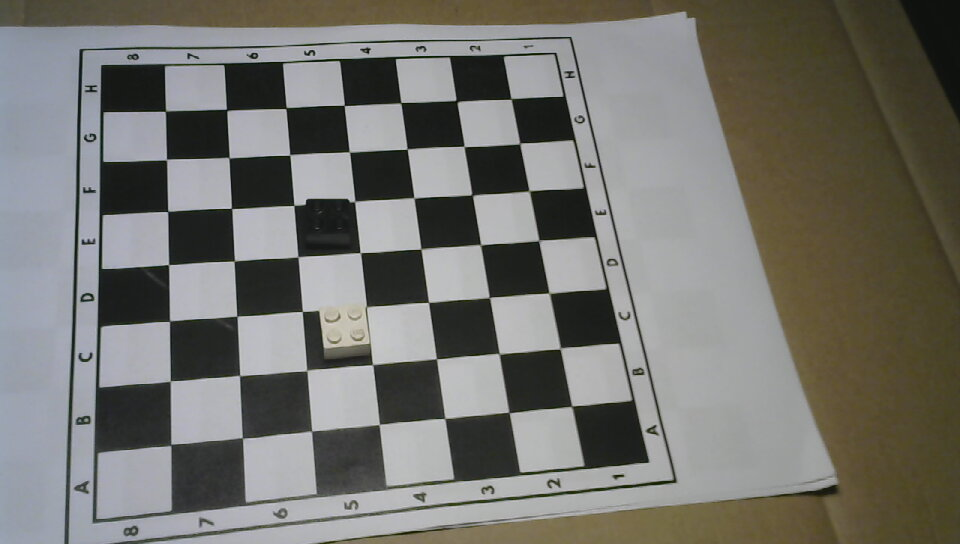bp: (297, 192, 357, 252)
